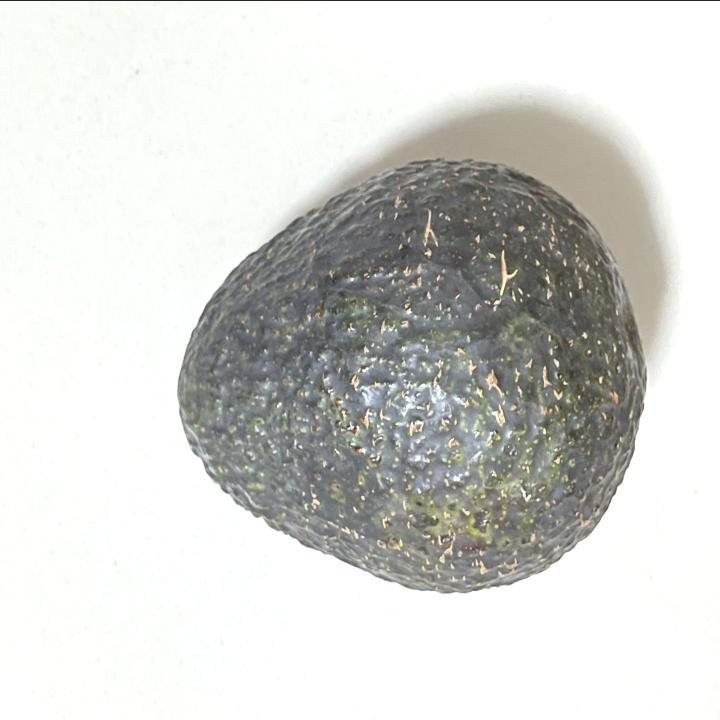Level1: (157, 129, 663, 613)
